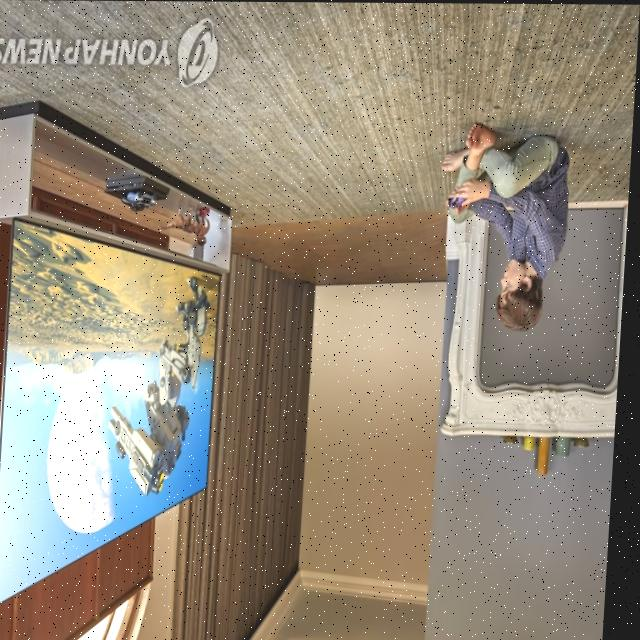tv-person: (0, 132, 570, 625)
